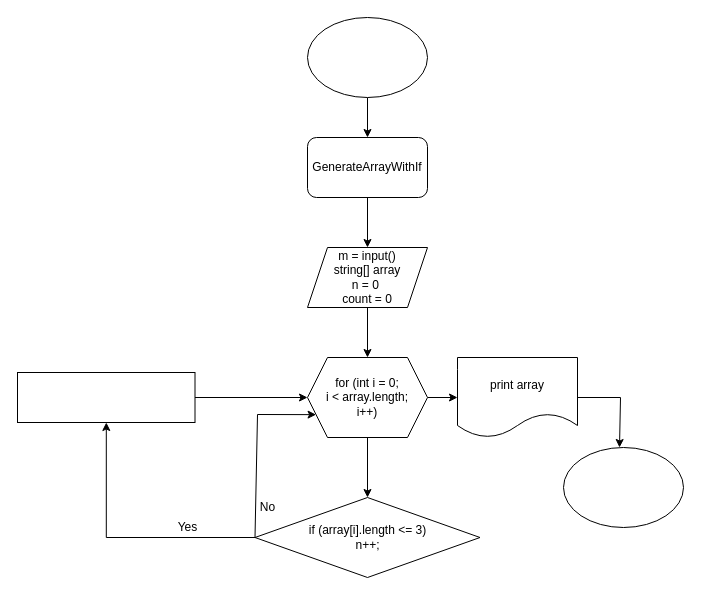
This 701x595 diagram has some shape labels left out. The centre of each missing label's shape, as x and y in pixels:
finish: the point at 623,487
start: the point at 367,57
strings[count] = array[i] count++;: the point at 105,397
